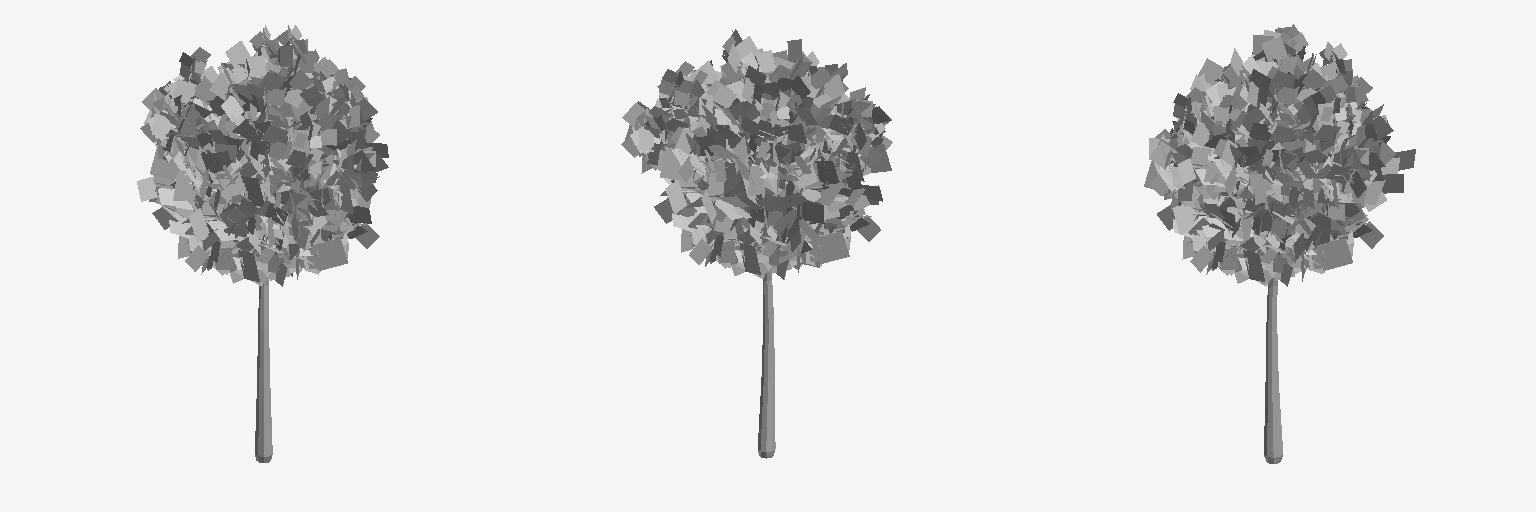
The model's file is tree2.obj.
3 views of the same model, side by side, from view 1: azimuth 30°, elevation 25°; view 2: azimuth 150°, elevation 25°; view 3: azimuth 270°, elevation 25° (orthographic).
Parts seen in each view (by area): view 1: tak_M_leaf_0; view 2: tak_M_leaf_0; view 3: tak_M_leaf_0.
Part boxes in pixels (x1,y1,x2,y2): tak_M_leaf_0: (137, 25, 388, 462); tak_M_leaf_0: (621, 29, 892, 458); tak_M_leaf_0: (1144, 24, 1415, 463).
Size of the model in its own units: 2.47 by 4.15 by 2.53.